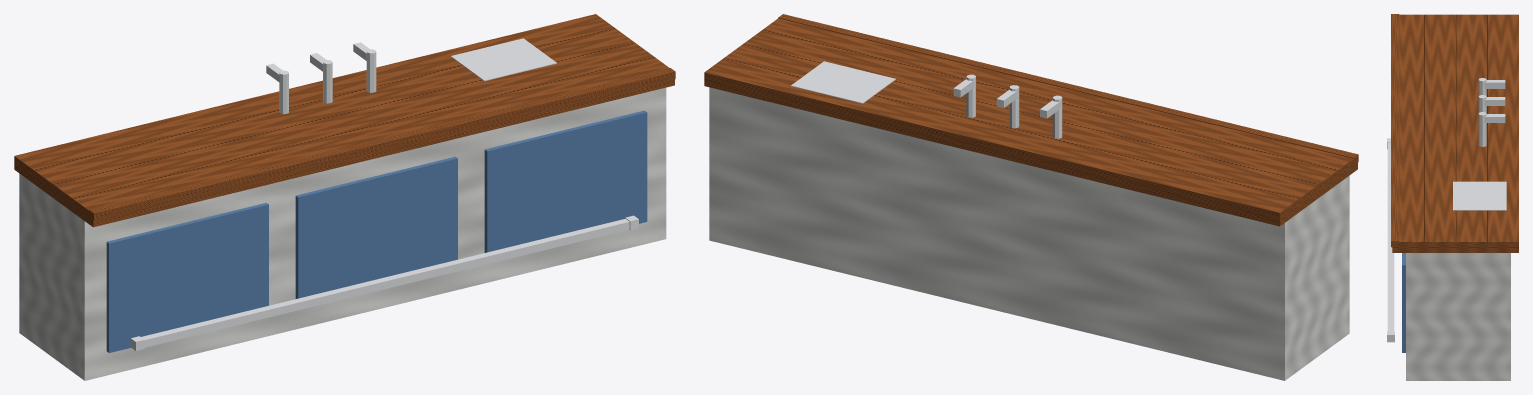
The model's file is cruise-ship-deck-and-lounge-cruise-ship-deck-and-loung-3cf5d724__38442.glb.
3 views of the same model, side by side, from view 1: azimuth 30°, elevation 25°; view 2: azimuth 150°, elevation 25°; view 3: azimuth 270°, elevation 25° (orthographic). The views are drawn at different scales.
Parts seen in each view (by area): view 1: cruise-ship-deck-and-lounge-poolside-bar-counter; view 2: cruise-ship-deck-and-lounge-poolside-bar-counter; view 3: cruise-ship-deck-and-lounge-poolside-bar-counter.
Part boxes in pixels (bbox=[...]): cruise-ship-deck-and-lounge-poolside-bar-counter: bbox=[14, 14, 675, 380]; cruise-ship-deck-and-lounge-poolside-bar-counter: bbox=[704, 14, 1358, 380]; cruise-ship-deck-and-lounge-poolside-bar-counter: bbox=[1387, 14, 1518, 380].
Size of the model in its own units: 4 by 1.4 by 0.9799.
6 materials, 2 textured.
